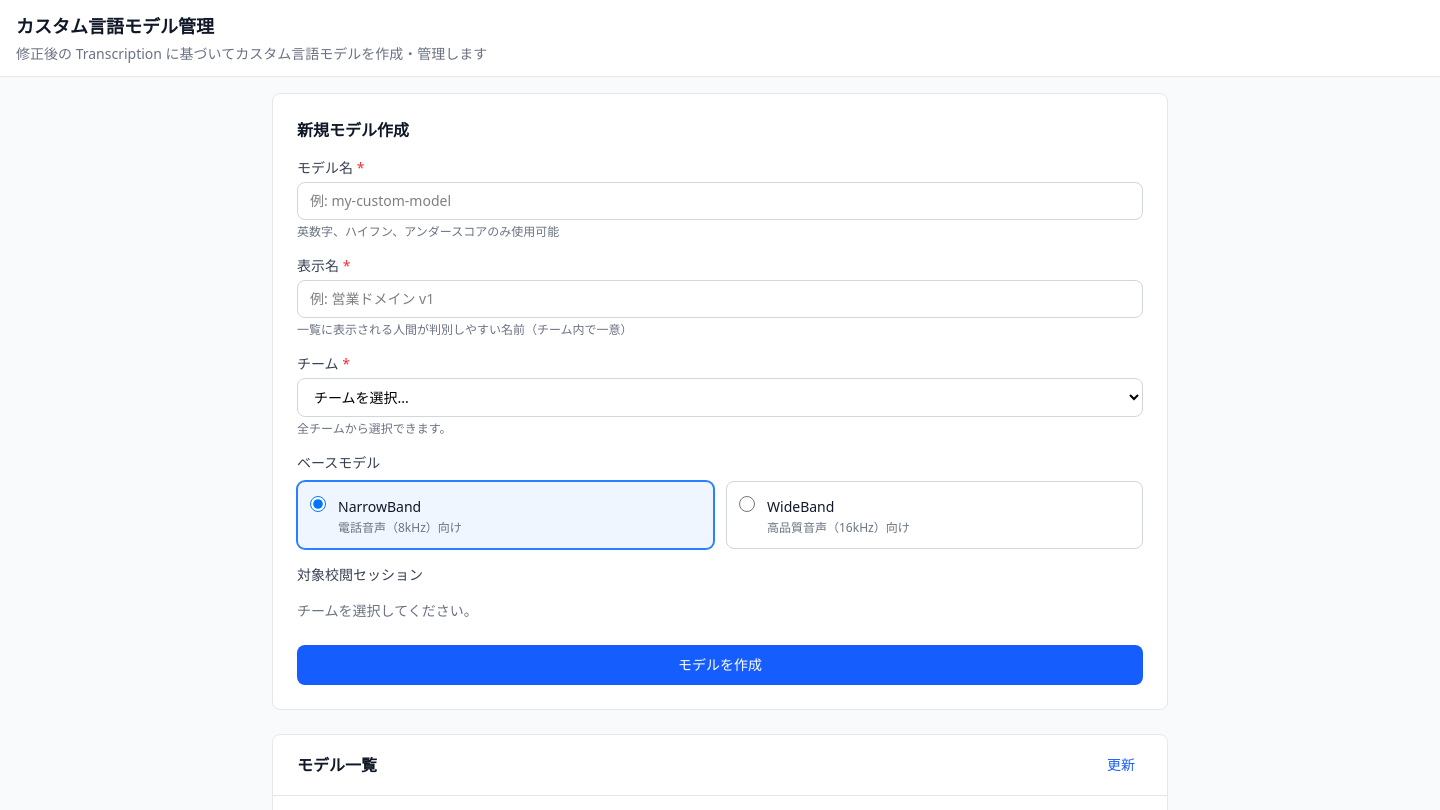
Scenario: LanguageModelPage › model creation form › shows validation error when model name is empty
Click the button "モデルを作成" at (720, 665), box [297, 645, 1143, 685]
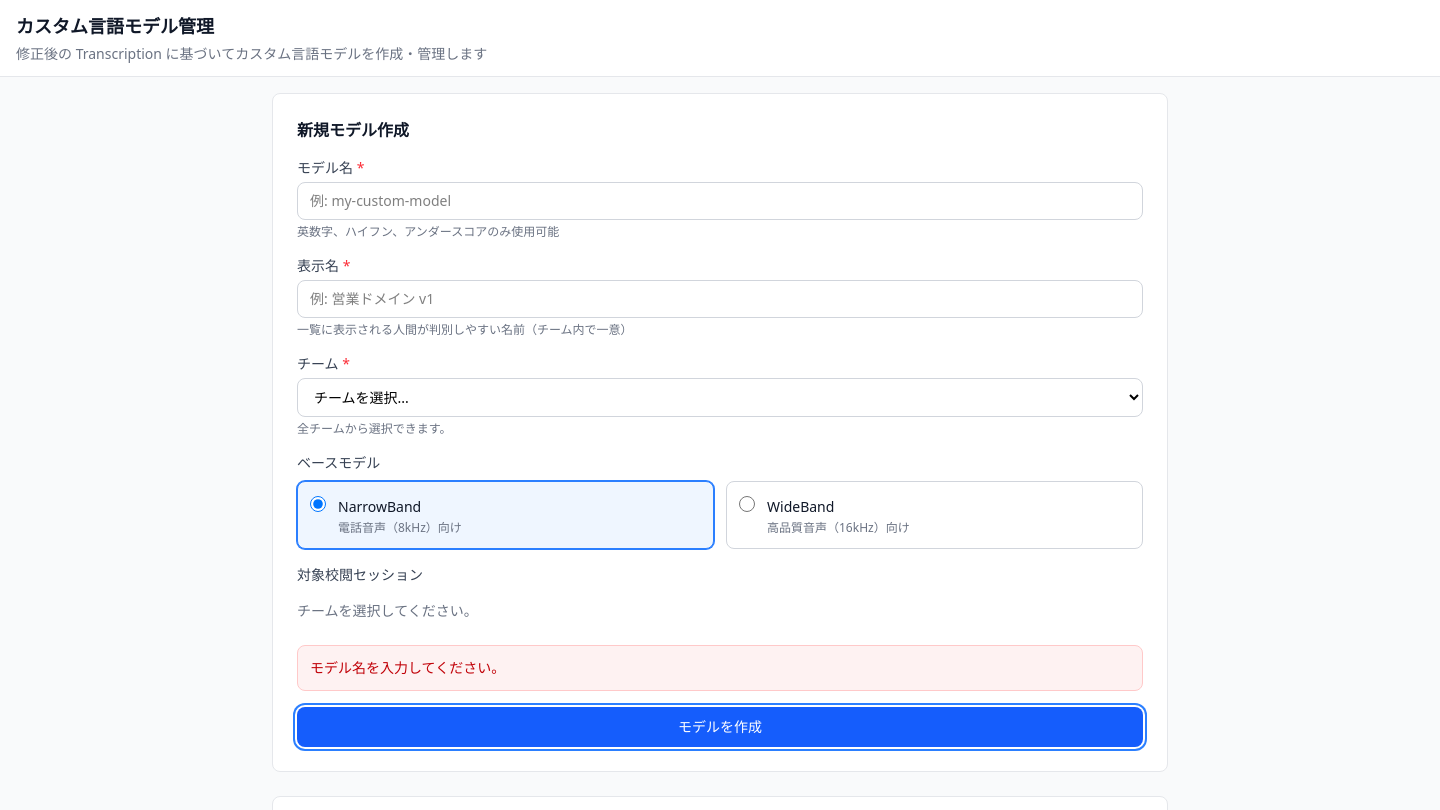
expect the text "モデル名を入力してください。" is shown: met, box [310, 658, 505, 677]
